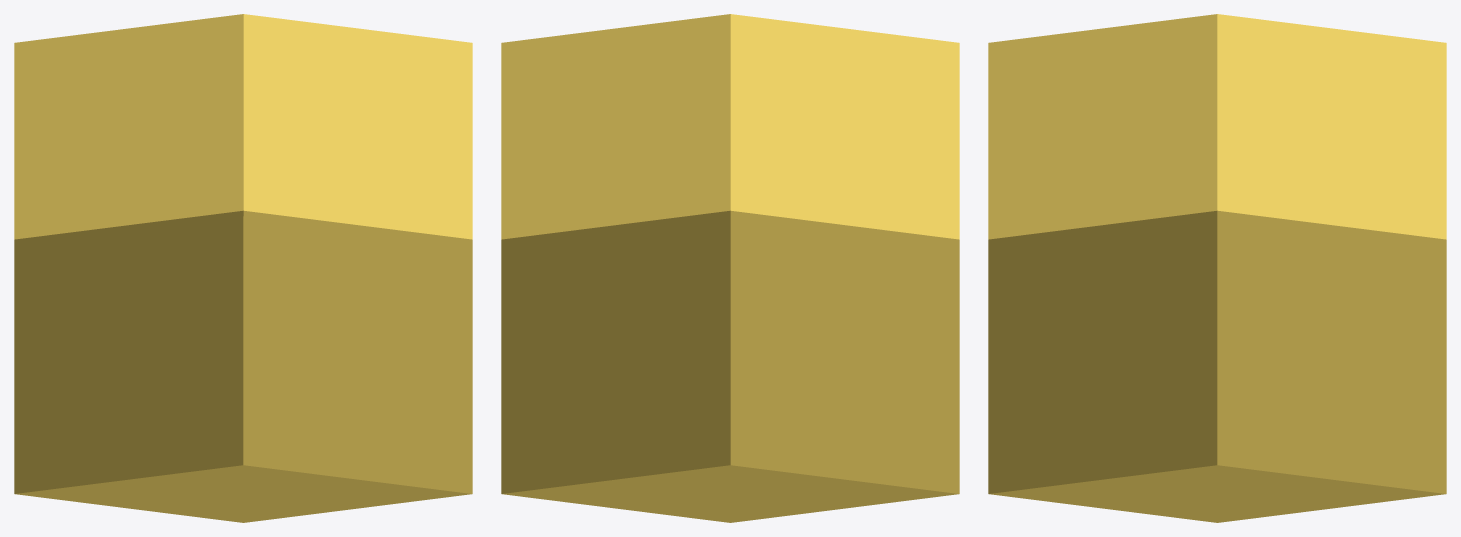
Rendered from mesh_transformation_ver1_noBG.glb.
3 renders of one model, left to right at view 1: azimuth 30°, elevation 25°; view 2: azimuth 150°, elevation 25°; view 3: azimuth 270°, elevation 25°, orthographic.
Parts seen in each view (by area): view 1: Rhombic Dodecahydron; view 2: Rhombic Dodecahydron; view 3: Rhombic Dodecahydron.
Part boxes in pixels (left/top/right/bottom): Rhombic Dodecahydron: left=14, top=14, right=472, bottom=522; Rhombic Dodecahydron: left=501, top=14, right=959, bottom=522; Rhombic Dodecahydron: left=988, top=14, right=1446, bottom=522.
Bounding box in the file's own units: 0.6285 × 0.6667 × 0.5443.
